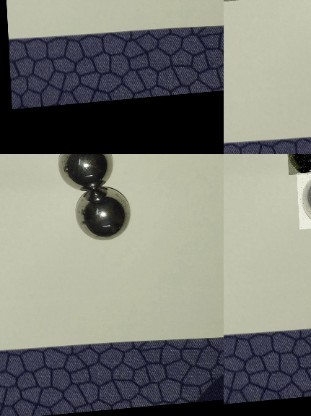ironball: (75, 182, 130, 237), (55, 151, 122, 189)
